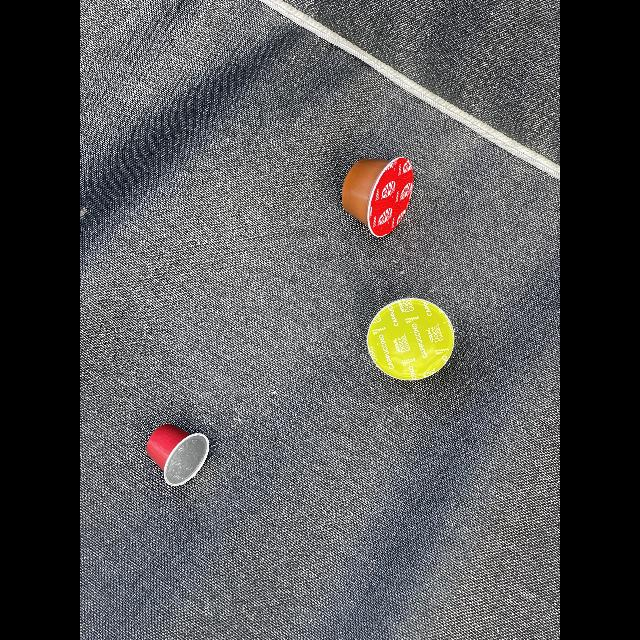intact_capsule: (362, 290, 462, 394), (336, 144, 418, 246), (137, 412, 215, 494)
